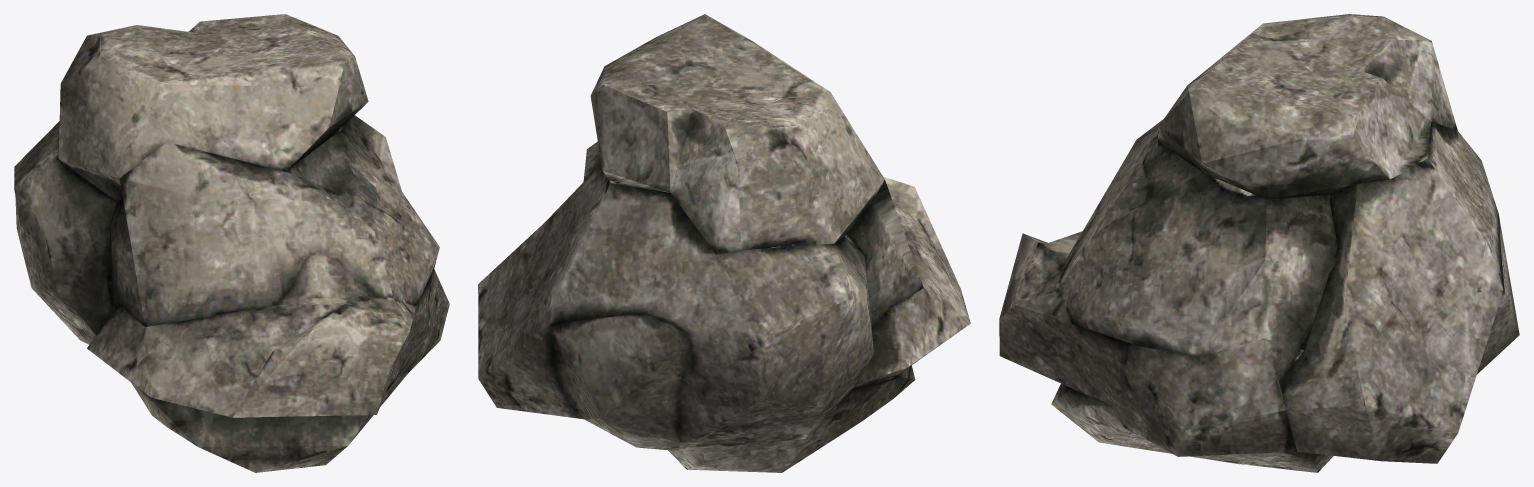
Rendered from SM_Big_Rock_02_LOD4.fbx.
The picture shows the model from 3 angles, left to right: view 1: azimuth 30°, elevation 25°; view 2: azimuth 150°, elevation 25°; view 3: azimuth 270°, elevation 25°; orthographic projection. The views are drawn at different scales.
Visible parts, largest first — view 1: SM_Big_Rock_02_LOD4; view 2: SM_Big_Rock_02_LOD4; view 3: SM_Big_Rock_02_LOD4.
Boxes of the visible parts, bbox=[...] form: SM_Big_Rock_02_LOD4: bbox=[14, 14, 449, 472]; SM_Big_Rock_02_LOD4: bbox=[478, 14, 970, 472]; SM_Big_Rock_02_LOD4: bbox=[999, 14, 1519, 472].
Size of the model in its own units: 387 by 396 by 448.
